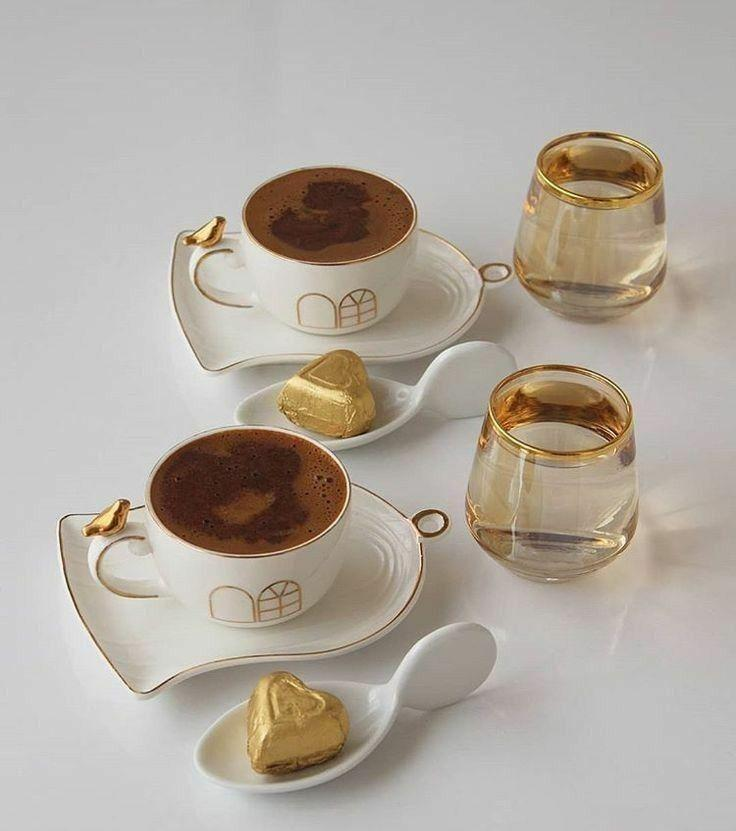cup-handle: (91, 423, 354, 627), (187, 161, 426, 335)
glass-normal: (462, 360, 642, 582), (506, 128, 673, 325)
